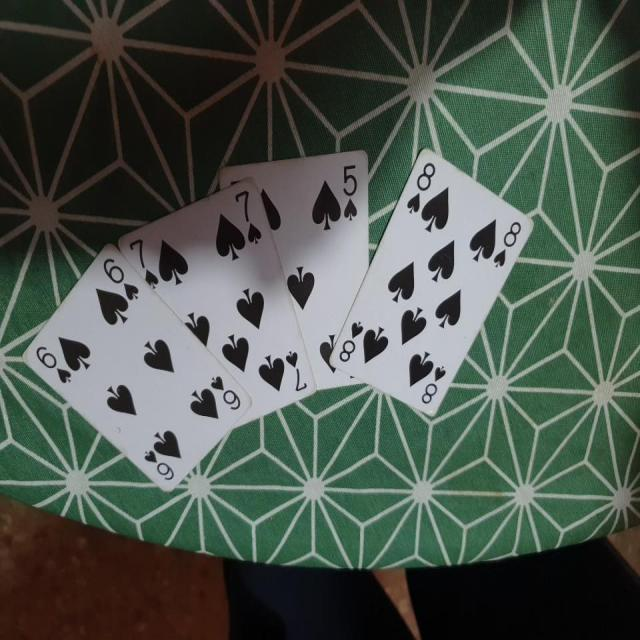5 Spades: (223, 134, 377, 406)
6 Spades: (20, 232, 250, 505)
7 Spades: (110, 183, 316, 437)
8 Spades: (327, 148, 532, 428)
